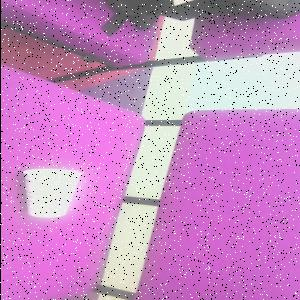Cup: (22, 169, 84, 219)
